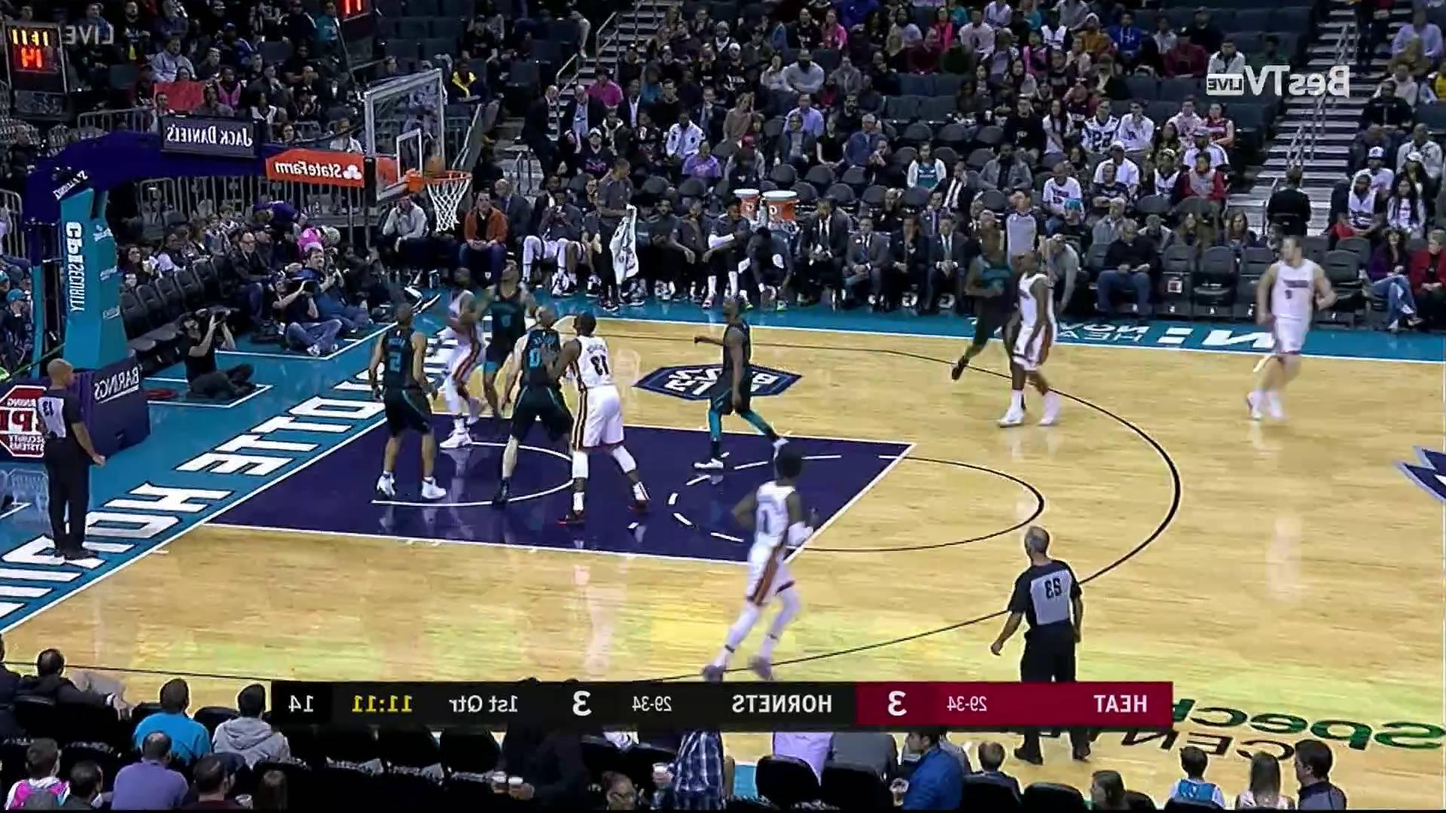basketball: (421, 152, 451, 183)
